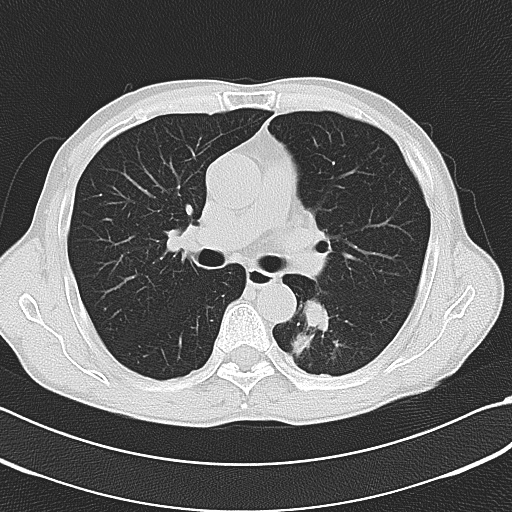cancer: (288, 296, 342, 353)
non-cancer: (158, 225, 193, 257)
